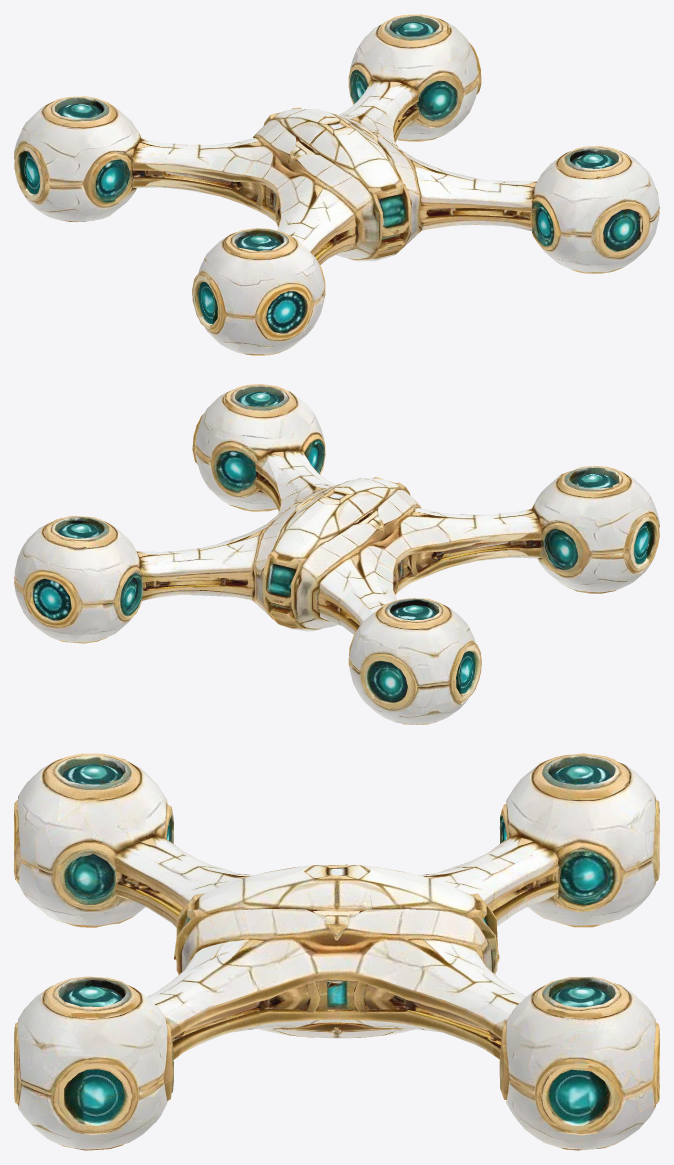
3 renders of one model, top to bottom at view 1: azimuth 30°, elevation 25°; view 2: azimuth 150°, elevation 25°; view 3: azimuth 270°, elevation 25°, orthographic. The views are drawn at different scales.
Size of the model in its own units: 1.9 by 0.4905 by 1.78.
Materials: 1 (1 with a texture image).
